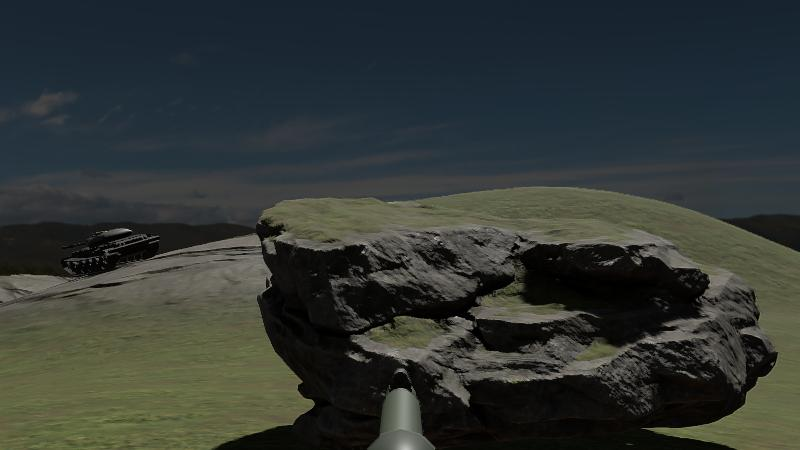Tank: (58, 224, 161, 277)
